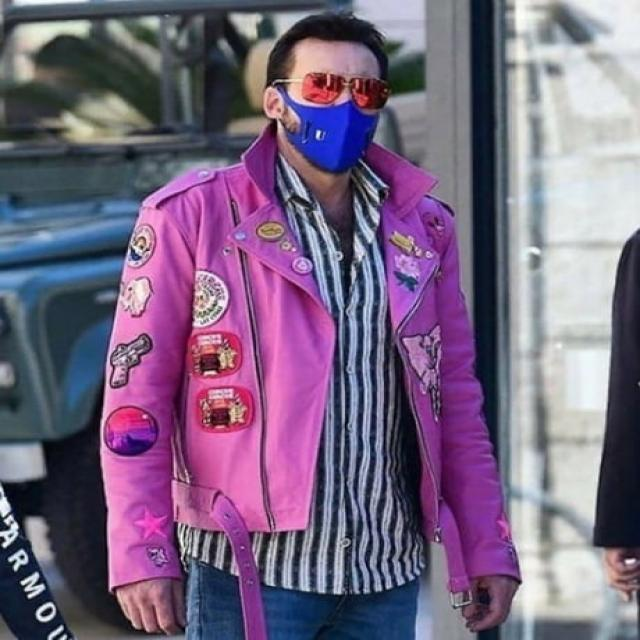Nonhelmet: (257, 9, 396, 177)
